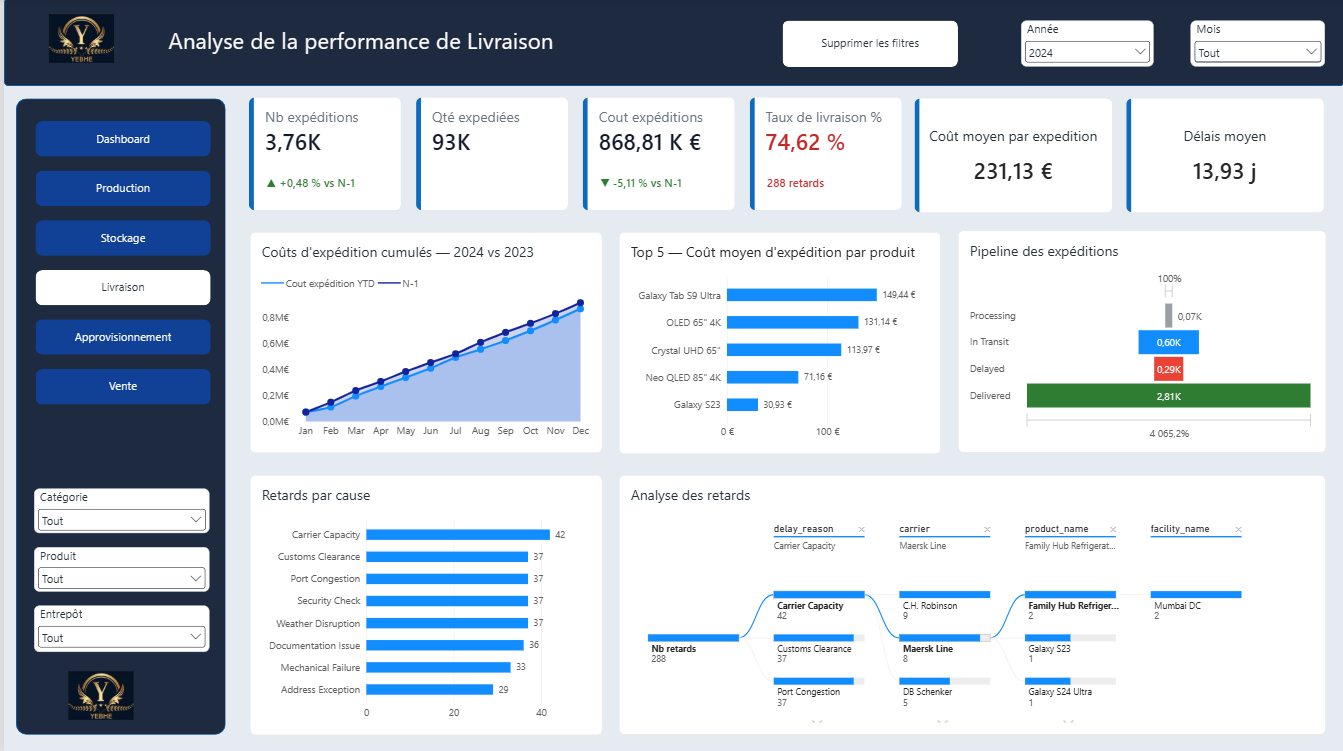

This screenshot's page, from the dashboard's own definition file:
{"tool":"powerbi","page":{"name":"Livraison","canvas":[1920,1080],"ordinal":3},"visuals":[{"type":"shape","box":[18,143.7,300.3,911.2],"z":0},{"type":"clusteredBarChart","title":"Top 5 — Coût moyen d''expédition par produit","fields":{"Category":["dim_product.product_name"],"Y":["_Mesures.Coût moyen par expedition"]},"box":[881.1,334.3,460.6,318.2],"z":1000},{"type":"cardVisual","fields":{"Data":["_Mesures.Nb expeditions","_Mesures.Qté expediées","_Mesures.Cout expedition Texte","_Mesures.Taux livraison %"]},"box":[349.8,142.3,939.8,163.2],"z":2000},{"type":"lineChart","title":"Coûts d''expédition cumulés — 2024 vs 2023","fields":{"Category":["dim_date.year Hierarchy.month_name"],"Y":["_Mesures.Cout expédition YTD","_Mesures.Cout expeditions ytd LY"]},"box":[351.7,334.3,505,316.9],"z":3000},{"type":"shape","box":[0,0,1920,126],"z":4000},{"type":"funnel","title":"Pipeline des expéditions","fields":{"Category":["fact_shipment.status"],"Y":["_Mesures.Nb expeditions"]},"box":[1366.7,333.3,527.3,318.2],"z":5000},{"type":"slicer","fields":{"Values":["dim_date.year Hierarchy.month_name"]},"box":[1700.6,31.7,192.7,65.9],"z":6000},{"type":"slicer","fields":{"Values":["dim_date.year Hierarchy.year"]},"box":[1456.5,31.7,190.3,65.9],"z":7000},{"type":"textbox","box":[207.4,39,605.8,53.9],"z":8000},{"type":"image","box":[43.9,24.4,136,69.3],"z":9000},{"type":"image","box":[71.9,965.1,136,69.3],"z":10000},{"type":"slicer","fields":{"Values":["dim_product.category"]},"box":[42.7,703.2,251.5,64.2],"z":11000},{"type":"slicer","fields":{"Values":["dim_product.product_name"]},"box":[42.7,786.9,251,64.1],"z":12000},{"type":"slicer","fields":{"Values":["dim_facility.facility_name"]},"box":[42.7,870.5,251,66.8],"z":13000},{"type":"actionButton","box":[1115.1,32.2,251.4,66.6],"z":14000},{"type":"clusteredBarChart","title":"Retards par cause","fields":{"Category":["fact_shipment.delay_reason"],"Y":["_Mesures.Nb retards"]},"box":[351.7,682.6,505,372.6],"z":16000},{"type":"decompositionTreeVisual","title":"Analyse des retards","fields":{"Analyze":["_Mesures.Nb retards"],"ExplainBy":["fact_shipment.delay_reason","fact_shipment.carrier","dim_product.product_name","dim_facility.facility_name"]},"box":[880.9,683.3,1012,371.7],"z":17000},{"type":"cardVisual","fields":{"Data":["_Mesures.Coût moyen par expedition","_Mesures.Délais moyen Texte"]},"box":[1305.2,143,587.7,163.2],"z":18000},{"type":"pageNavigator","box":[45.1,176.2,251.4,406.1],"z":19000}]}

Visuals, with their boxes on the page's 1920x1080 design canvas (x1, y1, x2, y2). These are canvas units, not pixel positions in the 1343x751 screenshot, which may show the page scaled, cropped or inside an application window:
shape: 18, 144, 318, 1055
"Top 5 — Coût moyen d''expédition par produit" clusteredBarChart: 881, 334, 1342, 652
cardVisual - _Mesures.Nb expeditions x _Mesures.Qté expediées: 350, 142, 1290, 306
"Coûts d''expédition cumulés — 2024 vs 2023" lineChart: 352, 334, 857, 651
shape: 0, 0, 1920, 126
"Pipeline des expéditions" funnel: 1367, 333, 1894, 652
slicer - dim_date.year Hierarchy.month_name: 1701, 32, 1893, 98
slicer - dim_date.year Hierarchy.year: 1456, 32, 1647, 98
textbox: 207, 39, 813, 93
image: 44, 24, 180, 94
image: 72, 965, 208, 1034
slicer - dim_product.category: 43, 703, 294, 767
slicer - dim_product.product_name: 43, 787, 294, 851
slicer - dim_facility.facility_name: 43, 870, 294, 937
actionButton: 1115, 32, 1366, 99
"Retards par cause" clusteredBarChart: 352, 683, 857, 1055
"Analyse des retards" decompositionTreeVisual: 881, 683, 1893, 1055
cardVisual - _Mesures.Coût moyen par expedition x _Mesures.Délais moyen Texte: 1305, 143, 1893, 306
pageNavigator: 45, 176, 296, 582
